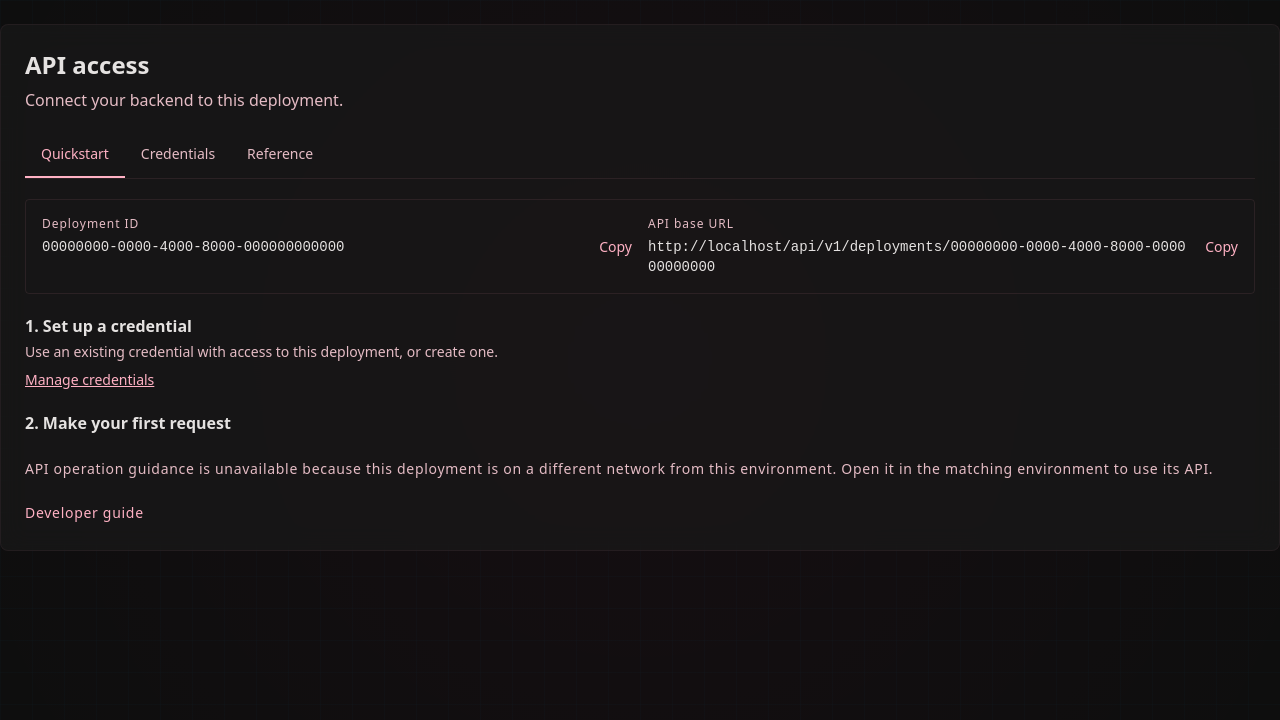
Scenario: deployment integration instructions › does not present operations or webhook credentials in a mismatched environment
Expected: the text "different network" is shown, [25,459,1213,478]
Click the tab "Credentials" at (178, 155), box [125,132,231,178]
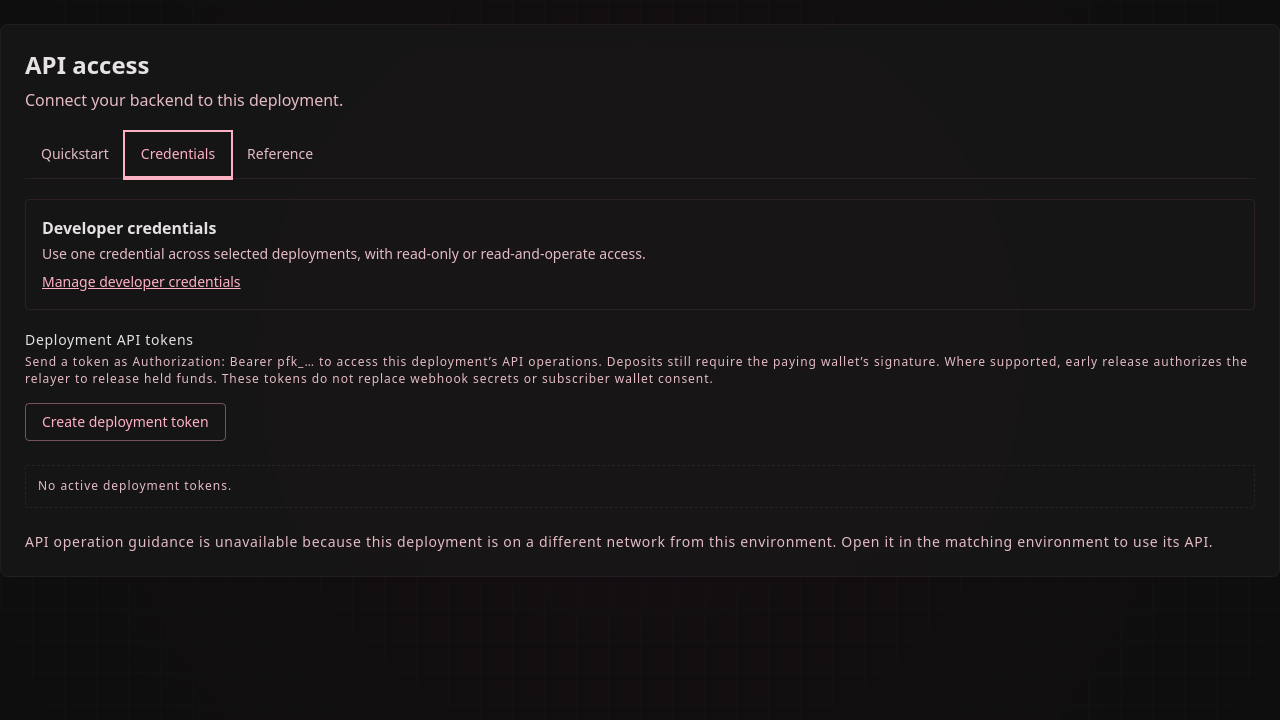
Now the list item "No active deployment tokens." is shown, box [25,465,1255,508]
